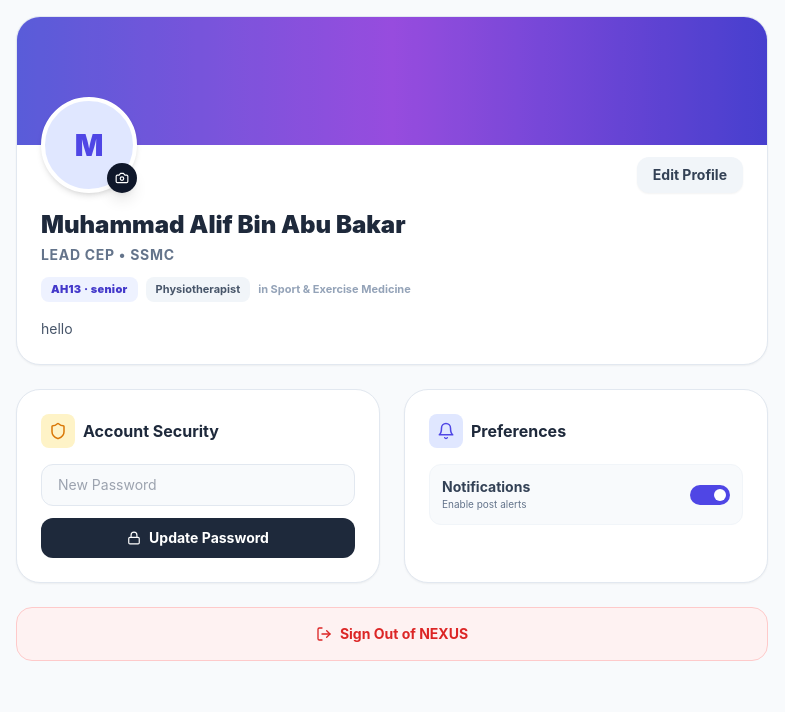
the consequence of a grade, beside the control that sets it › warns that a senior grade attracts lead shifts, before saving
This screenshot has width=785, height=712.
Click the button "Edit Profile" at (690, 175), box 637,157 -> 743,193
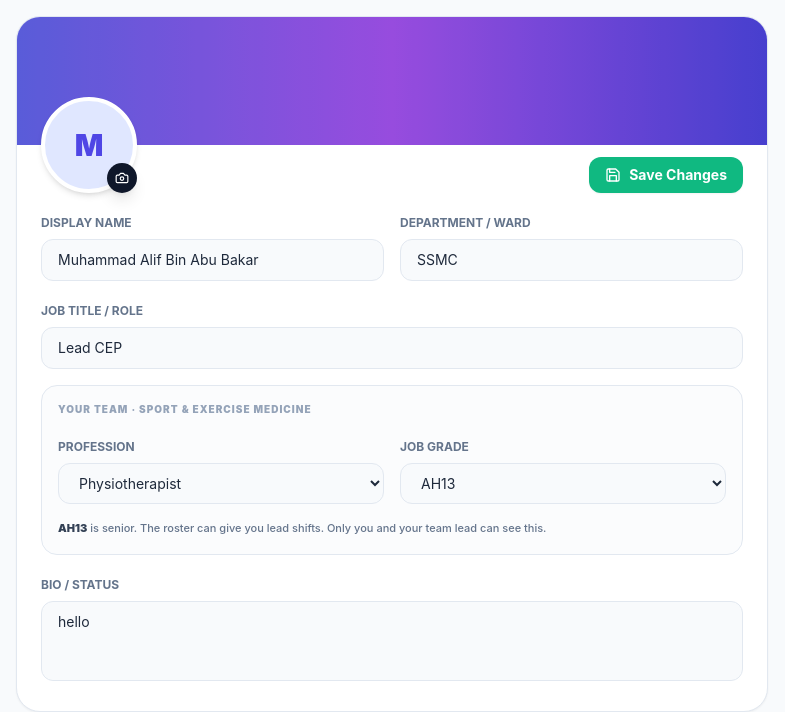
Select "AH17" in the dropdown labelled "Job Grade" at (563, 484), box 400,463 -> 726,504
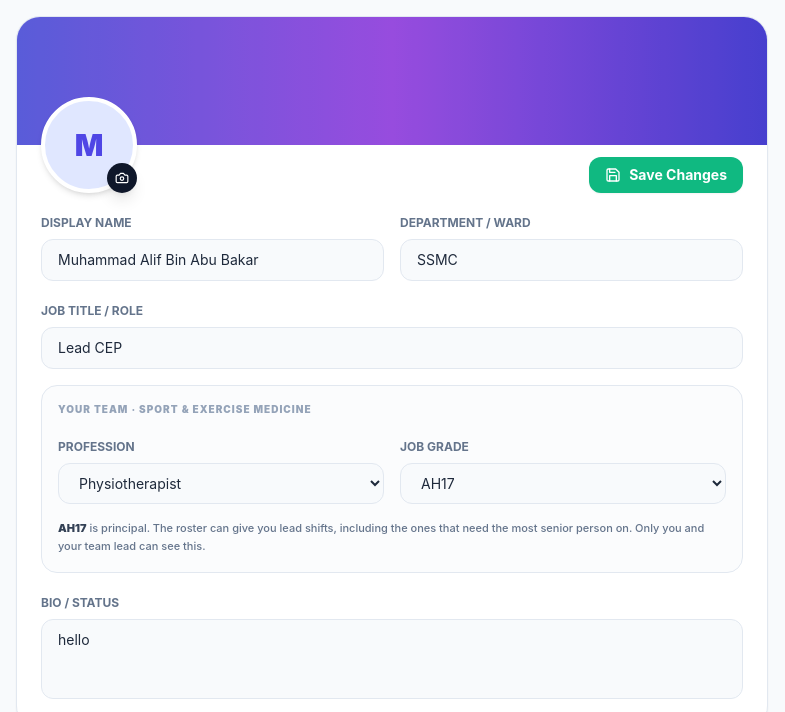
Check: the text "only you and your team lead can see this" is shown, box 58,521 -> 704,553
Check: the text "most senior" is shown, box 153,521 -> 632,535
